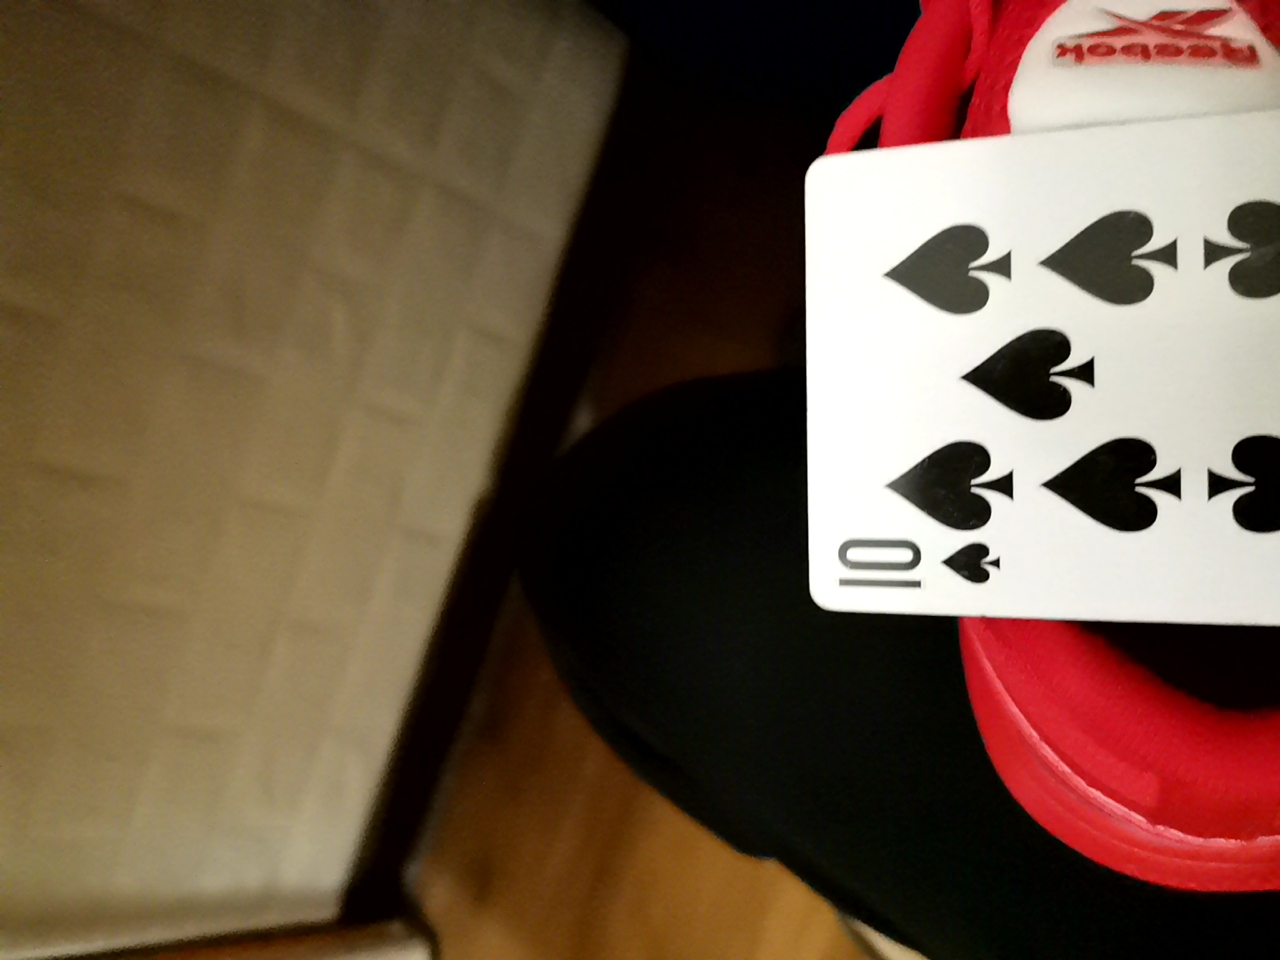ht 10: (763, 121, 1280, 627)
